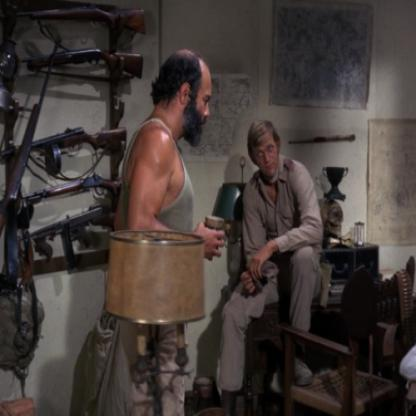Gun: (0, 0, 154, 299)
